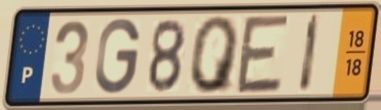3: (49, 18, 91, 97)
8: (147, 17, 187, 95)
E: (233, 12, 293, 97)
G: (93, 16, 143, 97)
I: (296, 11, 324, 96)
Q: (188, 13, 242, 96)
